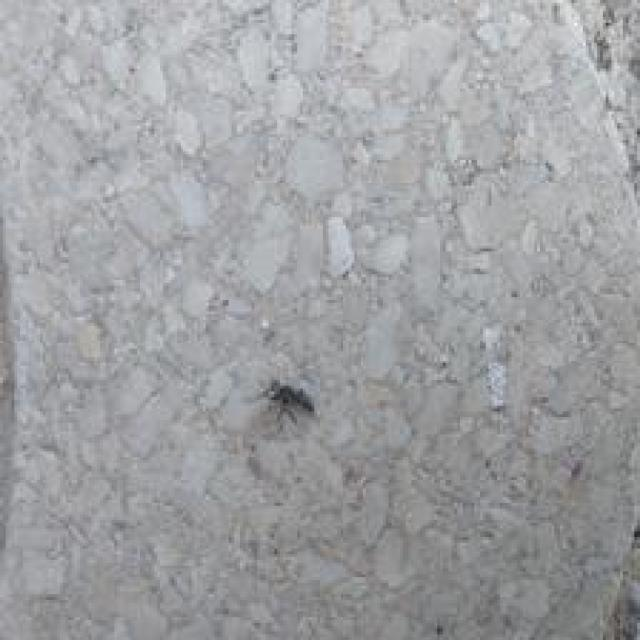Aedes albopictus: (261, 377, 316, 429)
